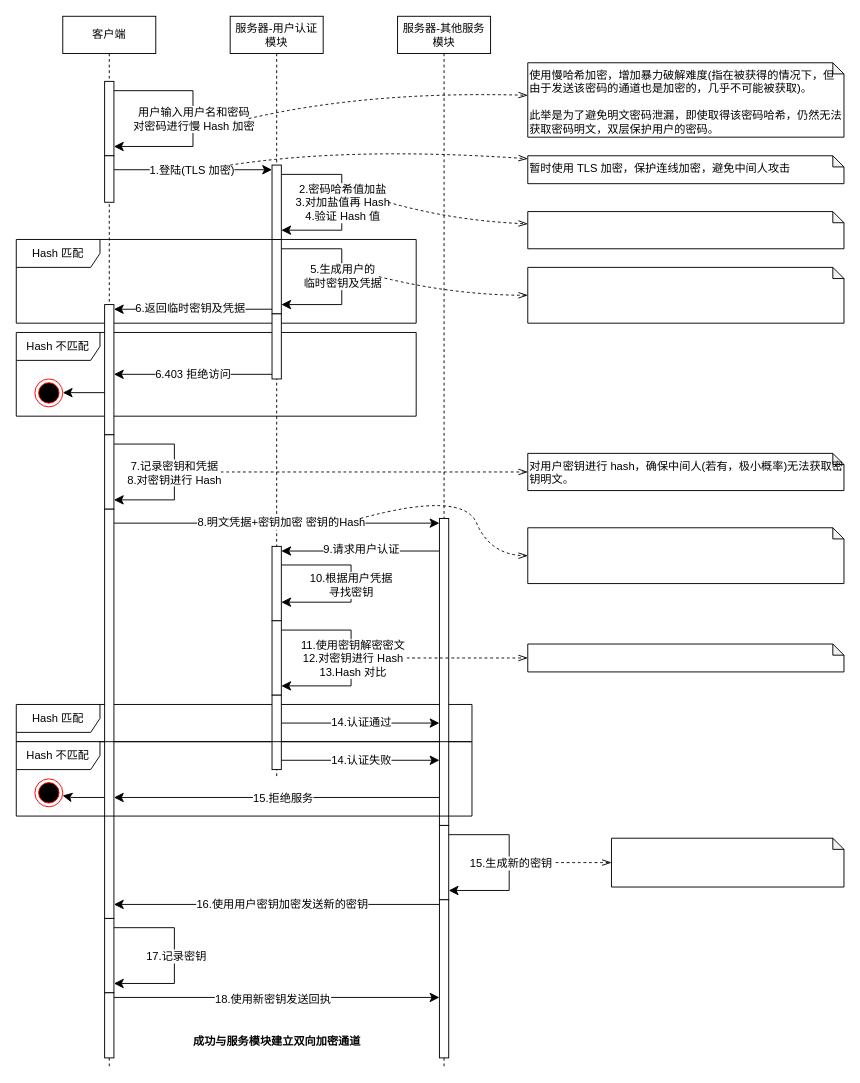
The diagram is 860 pixels wide and 1083 high, and some of its shapes have lost their labels. Each missing label, with the centre of its shape:
"一般选择生成的密钥来建立加密通道，且通道一经关闭便更换密钥，但实际上也可选择直接使用用户密钥。" belongs at point (727, 862).
"加盐再哈希是为了确保数据库中所存的密码都是不可逆的密文，且该密文与客户端 Hash 后的密文不同。加盐后破解难度更高。" belongs at point (685, 230).
"生成临时用户密钥用于用户访问其他服务，避免频繁使用密码认证。凭据是为了用户访问其他服务可以使用凭据替代用户名，确保请求信息不会泄漏。" belongs at point (685, 294).
"用户凭据是明文传输的，但并不会影响安全性。因为凭据是临时生成的，需要检索数据库才能得知具体的用户名。使用用户密钥对密钥进行 Hash 是用于下一步的用户认证" belongs at point (685, 555).
"解密密文，并比对密钥的 Hash 值" belongs at point (685, 657).
